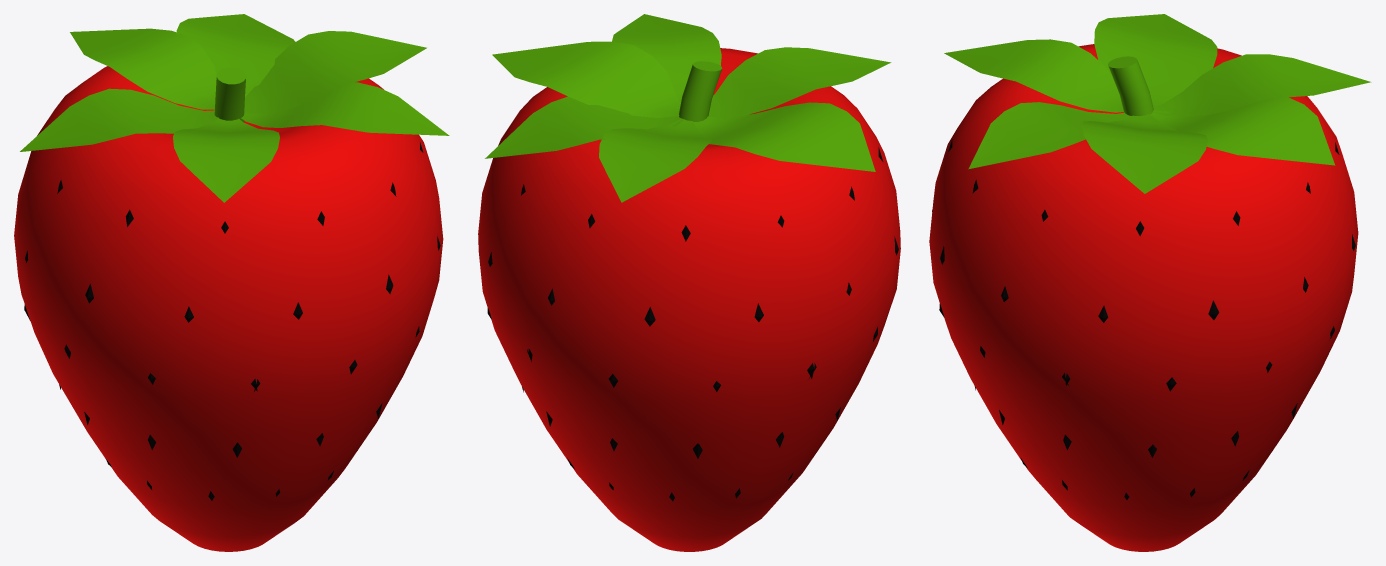
The model's file is Strawberry.fbx.
The picture shows the model from 3 angles, left to right: view 1: azimuth 30°, elevation 25°; view 2: azimuth 150°, elevation 25°; view 3: azimuth 270°, elevation 25°; orthographic projection.
Visible parts, largest first — view 1: Main; view 2: Main; view 3: Main.
Boxes of the visible parts, bbox=[...] form: Main: bbox=[14, 14, 449, 551]; Main: bbox=[478, 14, 900, 551]; Main: bbox=[929, 14, 1371, 551].
Size of the model in its own units: 1.08 by 1.25 by 1.04.
